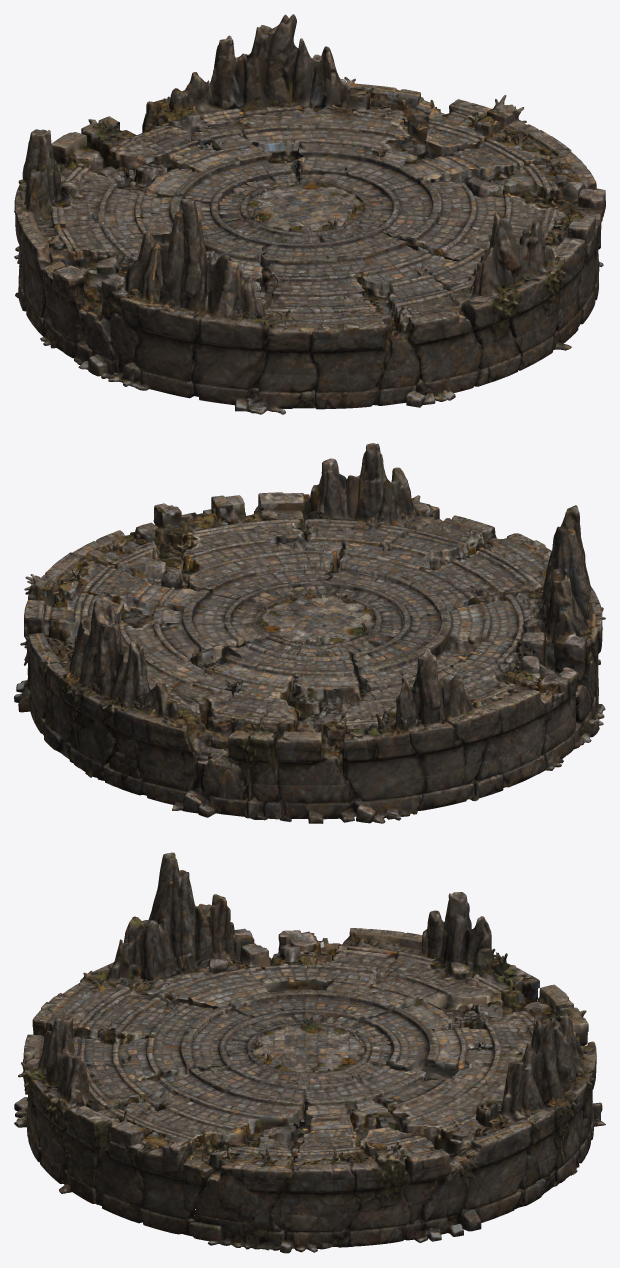
File: Arena_center.glb
The picture shows the model from 3 angles, top to bottom: view 1: azimuth 30°, elevation 25°; view 2: azimuth 150°, elevation 25°; view 3: azimuth 270°, elevation 25°; orthographic projection. The views are drawn at different scales.
Parts seen in each view (by area): view 1: YVO3D.obj; view 2: YVO3D.obj; view 3: YVO3D.obj.
Part boxes in pixels (x1,y1,x2,y2): YVO3D.obj: (14, 14, 605, 414); YVO3D.obj: (14, 443, 605, 823); YVO3D.obj: (14, 852, 605, 1253).
Size of the model in its own units: 0.9704 by 0.3386 by 0.9814.
Materials: 1 (1 with a texture image).
